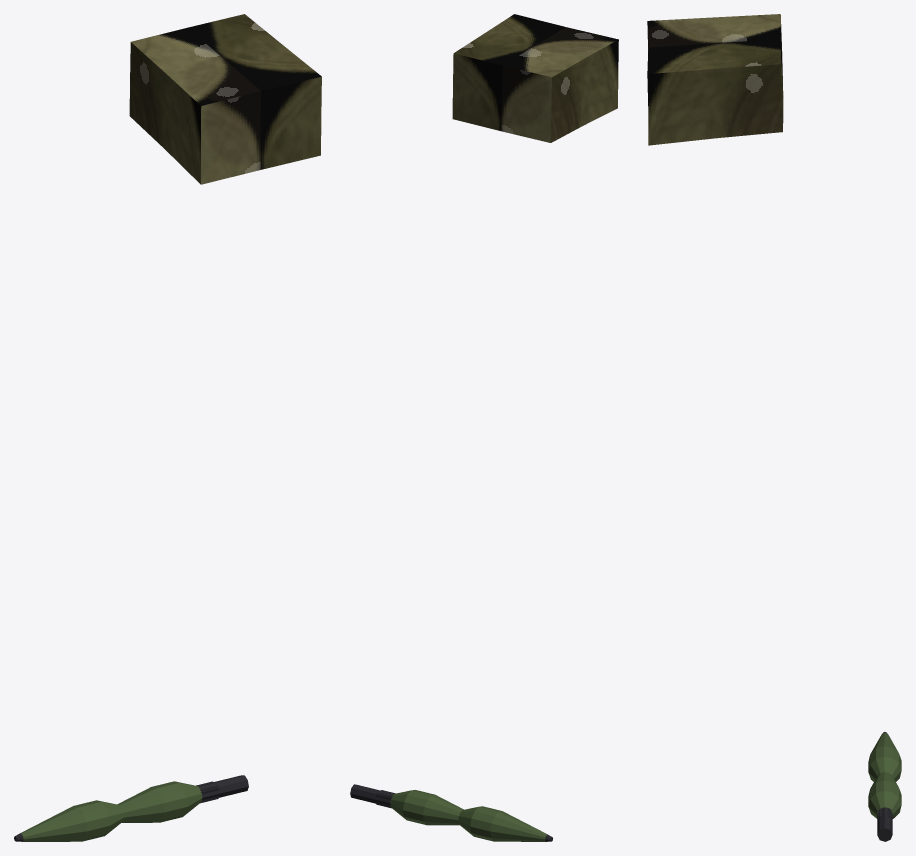
Rendered from pack_rpg.glb.
3 renders of one model, left to right at view 1: azimuth 30°, elevation 25°; view 2: azimuth 150°, elevation 25°; view 3: azimuth 270°, elevation 25°, orthographic. The views are drawn at different scales.
Visible parts, largest first — view 1: pack_worn_rpg; view 2: pack_worn_rpg; view 3: pack_worn_rpg.
Boxes of the visible parts, bbox=[...] form: pack_worn_rpg: bbox=[14, 14, 321, 841]; pack_worn_rpg: bbox=[350, 14, 618, 841]; pack_worn_rpg: bbox=[647, 14, 901, 841].
Bounding box in the file's own units: 0.6194 × 2.17 × 0.6585.
Materials: 3 (1 with a texture image).
